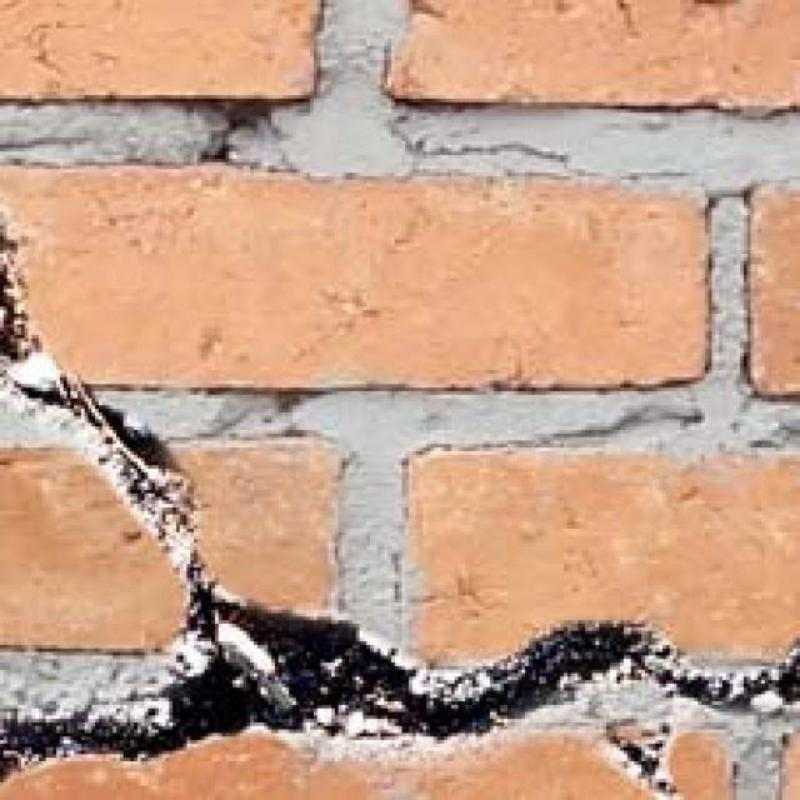pothole: (0, 594, 800, 776), (16, 377, 175, 470), (0, 223, 34, 360)
